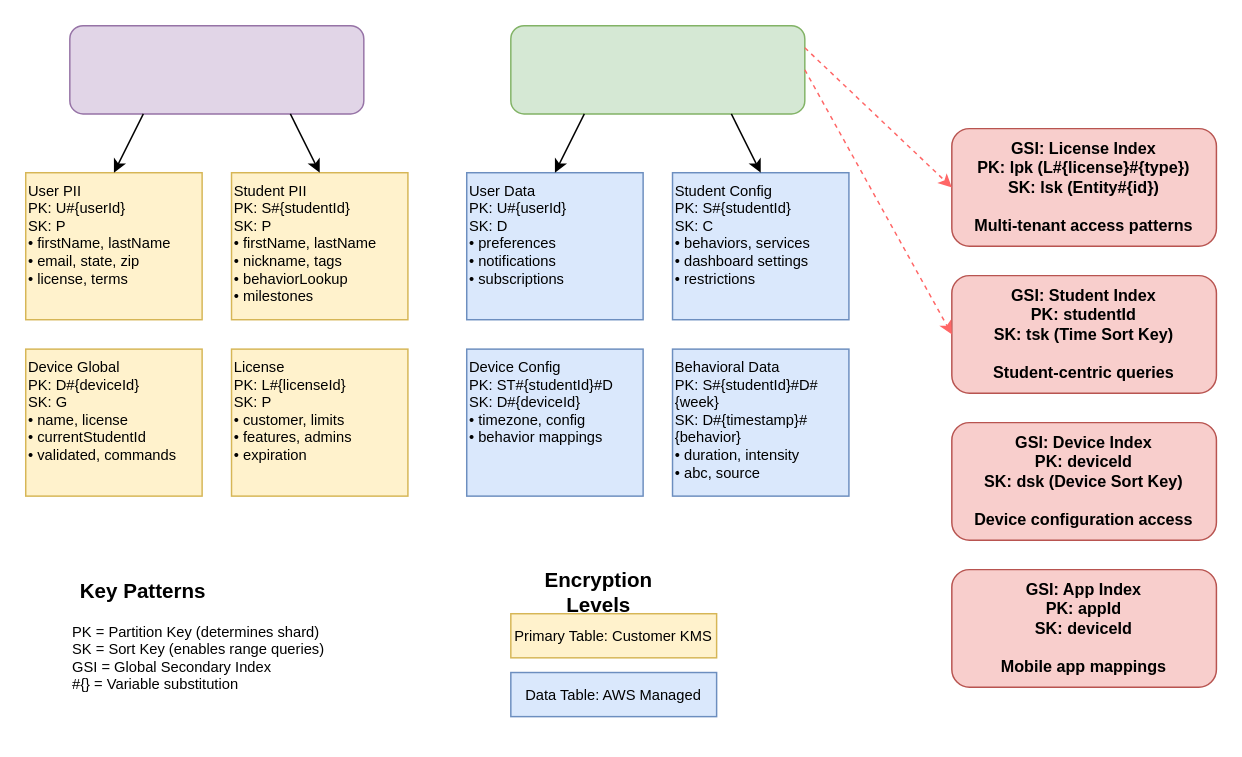
This 1242x757 diagram has some shape labels left out. Here are the shapes that lost their labels. From the top down, the centre of each, then its label:
[216,69]: Primary Table (PII/Sensitive Data)
[657,69]: Data Table (Configuration/Behavioral)
